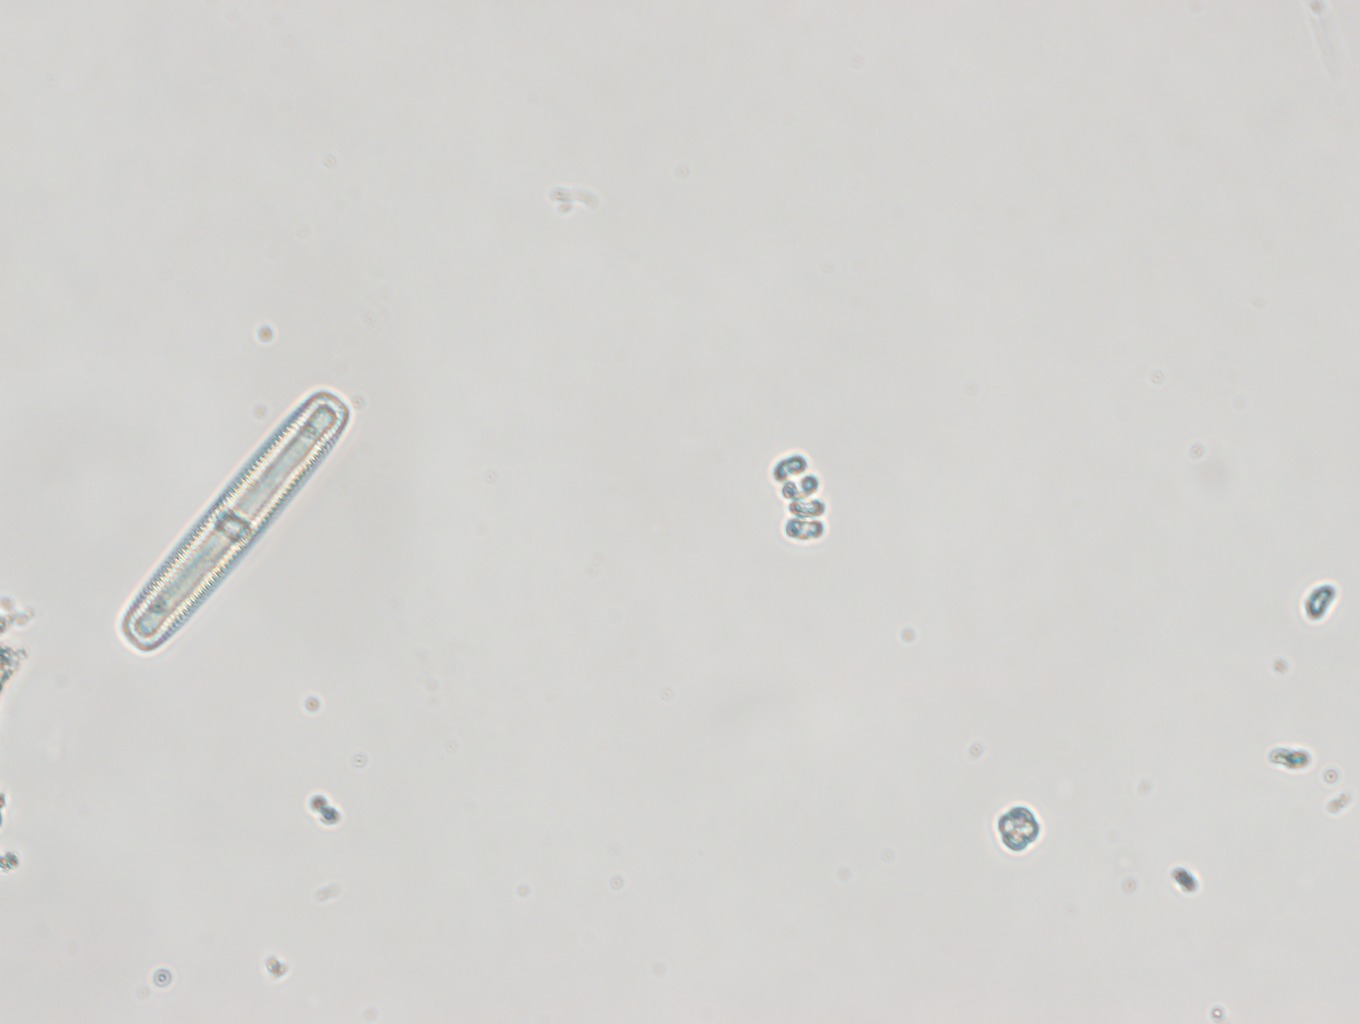skeletonema: (770, 454, 830, 542)
